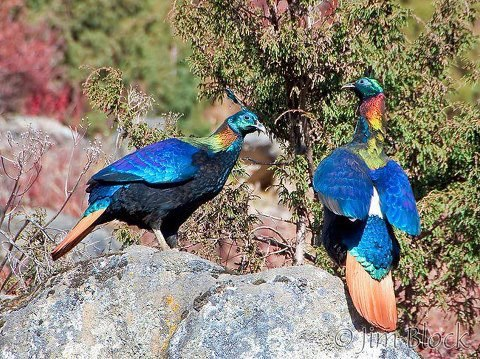bird: (49, 86, 274, 280), (305, 66, 427, 327)
